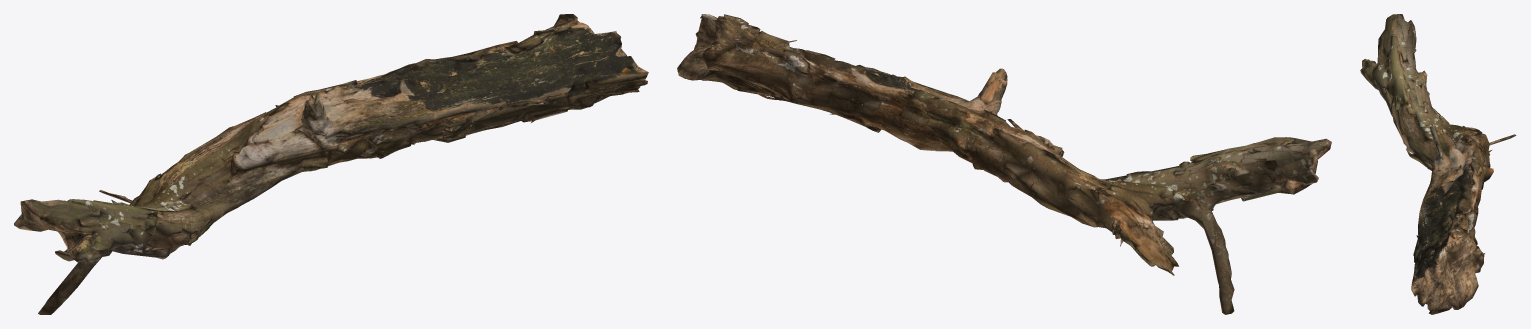
3 renders of one model, left to right at view 1: azimuth 30°, elevation 25°; view 2: azimuth 150°, elevation 25°; view 3: azimuth 270°, elevation 25°, orthographic. The views are drawn at different scales.
Visible parts, largest first — view 1: dead_tree_trunk_02; view 2: dead_tree_trunk_02; view 3: dead_tree_trunk_02.
Boxes of the visible parts, x1=… form: dead_tree_trunk_02: x1=14, y1=14, x2=648, y2=314; dead_tree_trunk_02: x1=677, y1=14, x2=1331, y2=314; dead_tree_trunk_02: x1=1360, y1=14, x2=1516, y2=314.
Bounding box in the file's own units: 4.05 × 1.05 × 1.05.
1 material, 1 textured.
